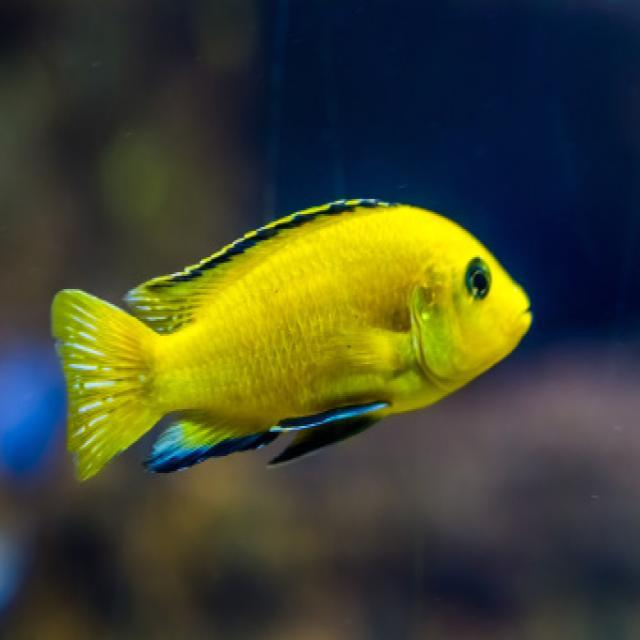YellowCichlid: (35, 178, 545, 512)
